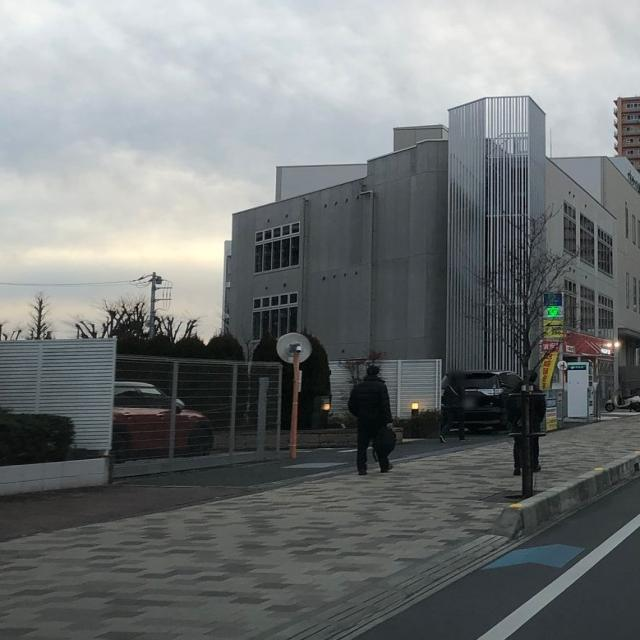dogwood: (464, 200, 590, 497)
